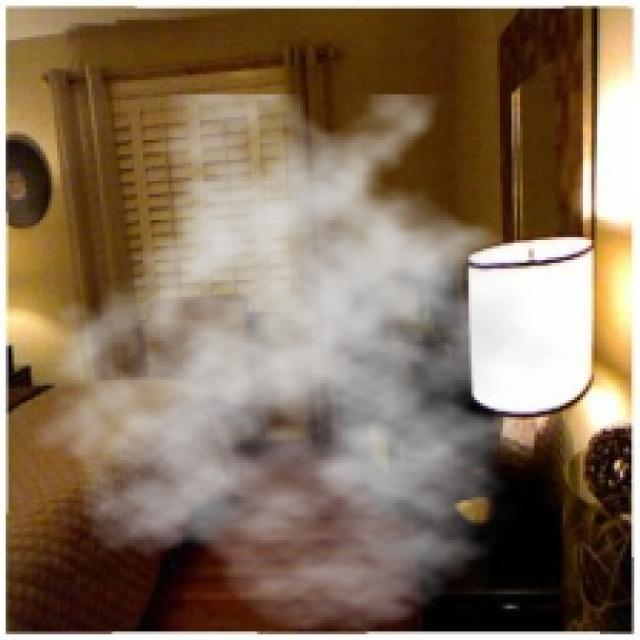Smoke: (29, 95, 588, 634)
